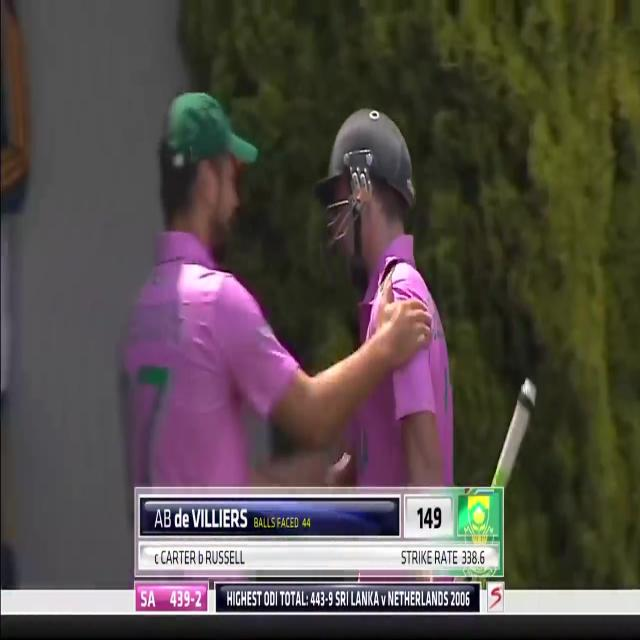Ball: (46, 70, 427, 490)
